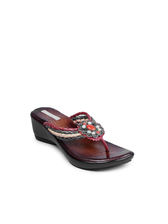shoes: (27, 102, 140, 170)
